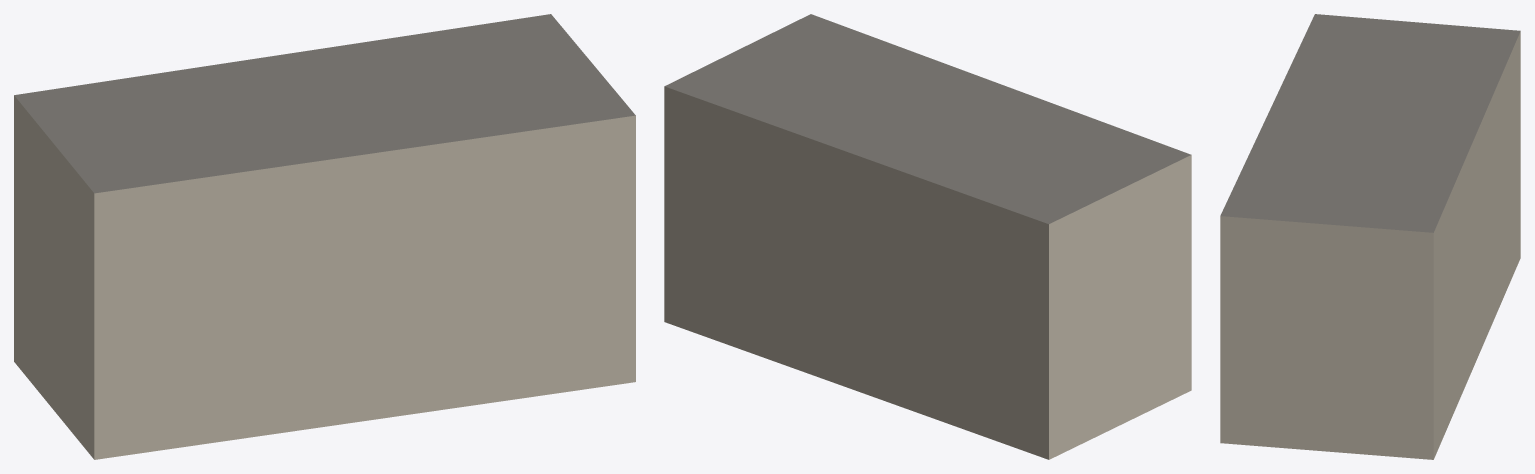
3 renders of one model, left to right at view 1: azimuth 30°, elevation 25°; view 2: azimuth 150°, elevation 25°; view 3: azimuth 270°, elevation 25°, orthographic. The views are drawn at different scales.
Parts seen in each view (by area): view 1: HP-w505646876; view 2: HP-w505646876; view 3: HP-w505646876.
Boxes of the visible parts, x1,y1,x2,y2 form: HP-w505646876: (14,14,635,459); HP-w505646876: (664,14,1191,459); HP-w505646876: (1220,14,1520,459).
Size of the model in its own units: 24.8 by 12 by 14.39.
